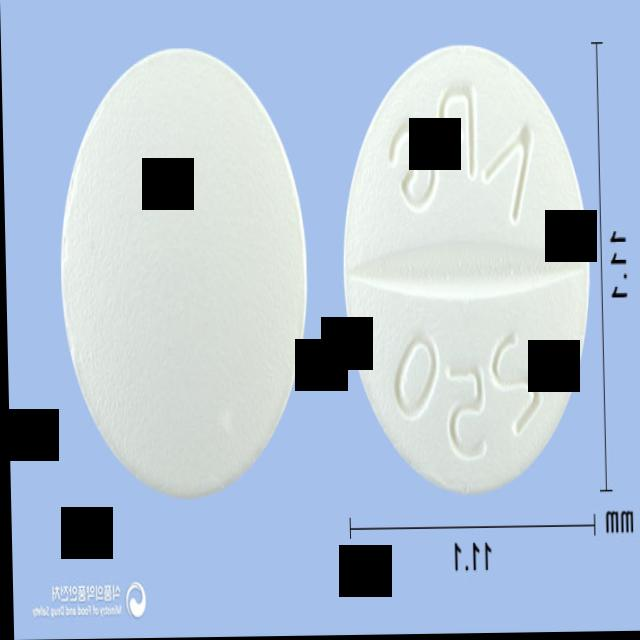Ciflo: (53, 41, 315, 507), (335, 40, 594, 503)
